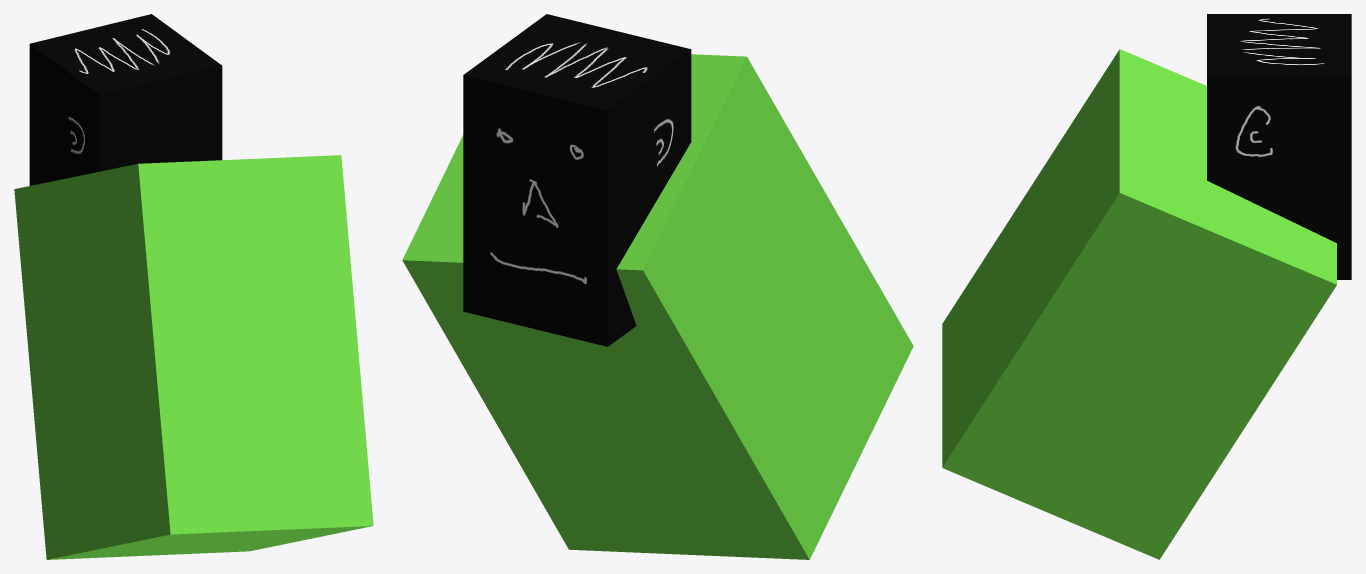
Rendered from personfbx_Z_Y.fbx.
3 views of the same model, side by side, from view 1: azimuth 30°, elevation 25°; view 2: azimuth 150°, elevation 25°; view 3: azimuth 270°, elevation 25° (orthographic). The views are drawn at different scales.
Parts seen in each view (by area): view 1: Cube, Cube.001; view 2: Cube, Cube.001; view 3: Cube, Cube.001.
Boxes of the visible parts, x1,y1,x2,y2 form: Cube: (14,155,373,559); Cube.001: (29,14,222,185); Cube: (402,54,913,559); Cube.001: (463,14,691,346); Cube: (942,49,1336,559); Cube.001: (1207,14,1351,279).
Size of what is drawn, in the model's own units: 3.24 by 5.28 by 4.06.
Materials: 2 (1 with a texture image).
